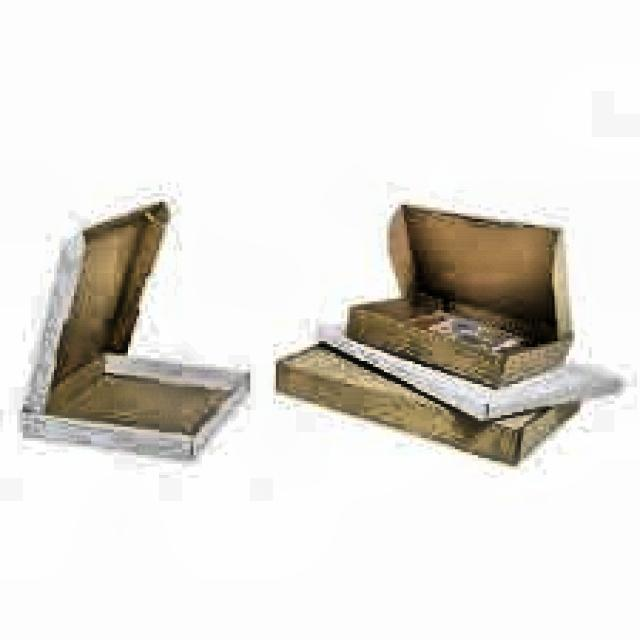cardboard: (17, 196, 250, 458), (344, 199, 572, 387)
